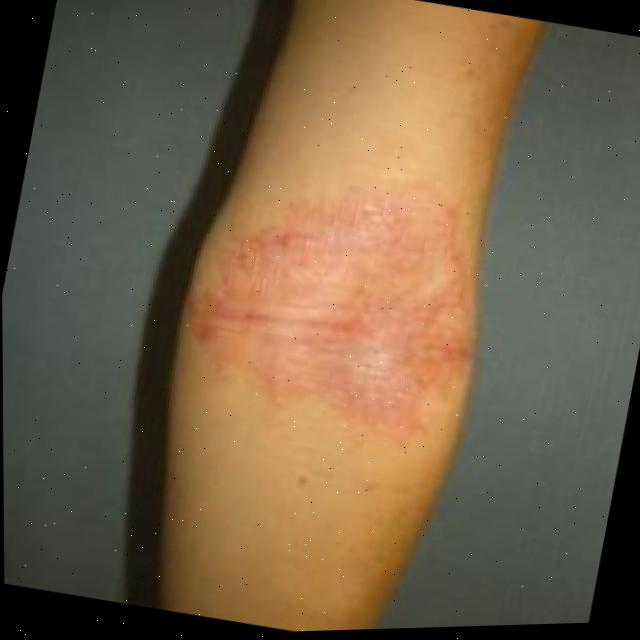Eczema: (177, 124, 506, 467)
